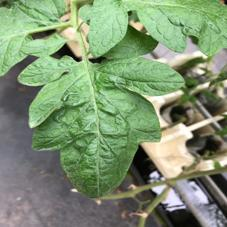Healthy: (16, 55, 186, 197)
